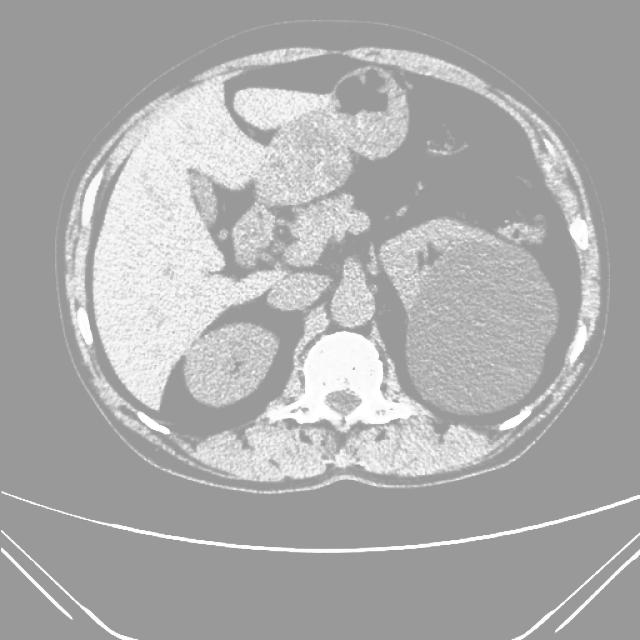cysts: (58, 38, 607, 493)
